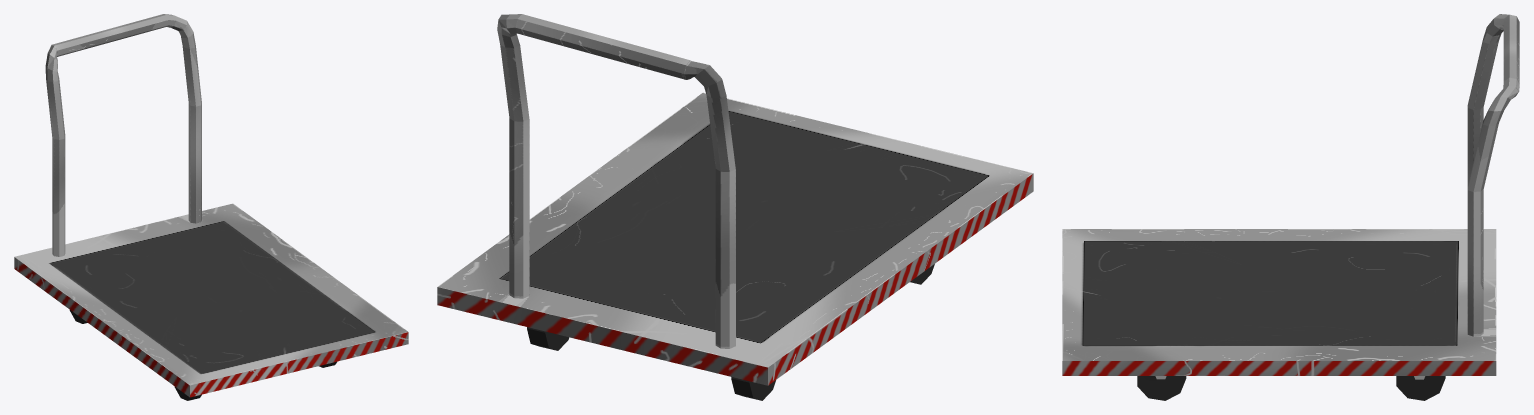
Rendered from platformtrolley.fbx.
The picture shows the model from 3 angles, left to right: view 1: azimuth 30°, elevation 25°; view 2: azimuth 150°, elevation 25°; view 3: azimuth 270°, elevation 25°; orthographic projection. The views are drawn at different scales.
Visible parts, largest first — view 1: Plane.008; view 2: Plane.008; view 3: Plane.008.
Boxes of the visible parts, x1,y1,x2,y2 form: Plane.008: (14, 14, 408, 400); Plane.008: (437, 14, 1033, 400); Plane.008: (1062, 14, 1519, 400).
Size of the model in its own units: 133 by 145 by 195.
